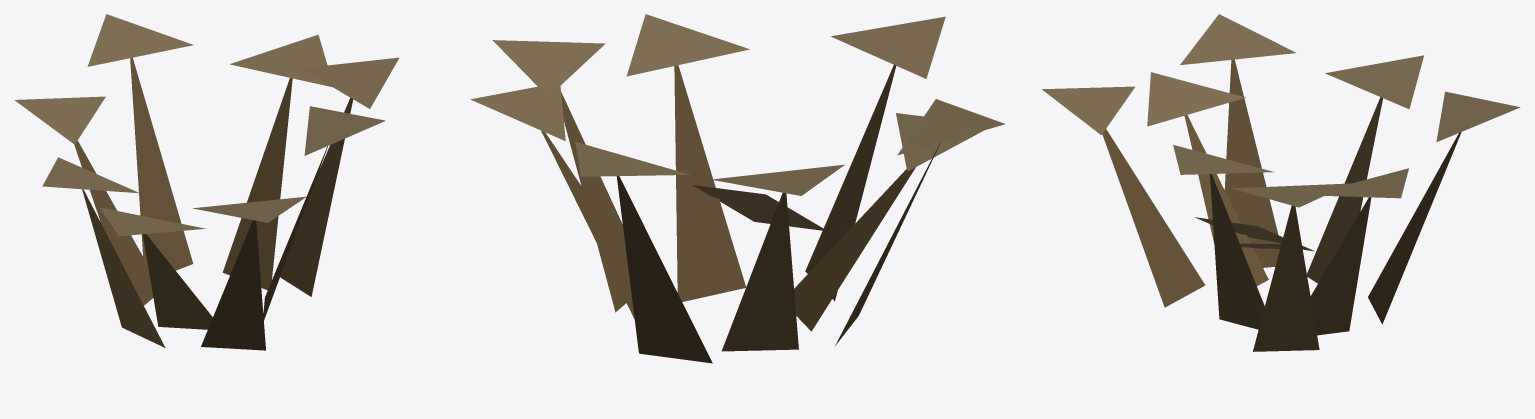
The model's file is plant_brambles_leafless_b.obj.
The picture shows the model from 3 angles, left to right: view 1: azimuth 30°, elevation 25°; view 2: azimuth 150°, elevation 25°; view 3: azimuth 270°, elevation 25°; orthographic projection. The views are drawn at different scales.
Parts seen in each view (by area): view 1: plant_brambles_leafless_b_8, plant_brambles_leafless_b_16, plant_brambles_leafless_b_6, plant_brambles_leafless_b_4, plant_brambles_leafless_b_14, plant_brambles_leafless_b_12, plant_brambles_leafless_b_9, plant_brambles_leafless_b_5, plant_brambles_leafless_b_7, plant_brambles_leafless_b_10, plant_brambles_leafless_b_11, plant_brambles_leafless_b_19 (+4 smaller); view 2: plant_brambles_leafless_b_18, plant_brambles_leafless_b_8, plant_brambles_leafless_b_10, plant_brambles_leafless_b_14, plant_brambles_leafless_b_19, plant_brambles_leafless_b_16, plant_brambles_leafless_b_17, plant_brambles_leafless_b_5, plant_brambles_leafless_b_6, plant_brambles_leafless_b_7, plant_brambles_leafless_b_13, plant_brambles_leafless_b_4 (+5 smaller); view 3: plant_brambles_leafless_b_4, plant_brambles_leafless_b_16, plant_brambles_leafless_b_12, plant_brambles_leafless_b_18, plant_brambles_leafless_b_6, plant_brambles_leafless_b_10, plant_brambles_leafless_b_13, plant_brambles_leafless_b_8, plant_brambles_leafless_b_15, plant_brambles_leafless_b_11, plant_brambles_leafless_b_17, plant_brambles_leafless_b_9 (+5 smaller).
Boxes of the visible parts, x1=… form: plant_brambles_leafless_b_8: x1=130, y1=57, x2=193, y2=270; plant_brambles_leafless_b_16: x1=201, y1=220, x2=265, y2=350; plant_brambles_leafless_b_6: x1=222, y1=78, x2=292, y2=290; plant_brambles_leafless_b_4: x1=280, y1=98, x2=353, y2=296; plant_brambles_leafless_b_14: x1=142, y1=234, x2=212, y2=329; plant_brambles_leafless_b_12: x1=82, y1=189, x2=165, y2=347; plant_brambles_leafless_b_9: x1=87, y1=14, x2=193, y2=66; plant_brambles_leafless_b_5: x1=301, y1=57, x2=399, y2=108; plant_brambles_leafless_b_7: x1=230, y1=34, x2=332, y2=87; plant_brambles_leafless_b_10: x1=74, y1=140, x2=153, y2=305; plant_brambles_leafless_b_11: x1=14, y1=96, x2=105, y2=144; plant_brambles_leafless_b_19: x1=304, y1=106, x2=385, y2=155; plant_brambles_leafless_b_18: x1=674, y1=65, x2=746, y2=301; plant_brambles_leafless_b_8: x1=616, y1=176, x2=712, y2=363; plant_brambles_leafless_b_10: x1=722, y1=193, x2=798, y2=351; plant_brambles_leafless_b_14: x1=794, y1=167, x2=915, y2=331; plant_brambles_leafless_b_19: x1=626, y1=14, x2=749, y2=76; plant_brambles_leafless_b_16: x1=805, y1=65, x2=896, y2=301; plant_brambles_leafless_b_17: x1=831, y1=16, x2=945, y2=78; plant_brambles_leafless_b_5: x1=492, y1=40, x2=605, y2=96; plant_brambles_leafless_b_6: x1=541, y1=130, x2=634, y2=318; plant_brambles_leafless_b_7: x1=470, y1=86, x2=565, y2=140; plant_brambles_leafless_b_13: x1=897, y1=99, x2=1005, y2=155; plant_brambles_leafless_b_4: x1=561, y1=92, x2=626, y2=312; plant_brambles_leafless_b_4: x1=1253, y1=205, x2=1319, y2=351; plant_brambles_leafless_b_16: x1=1102, y1=129, x2=1205, y2=307; plant_brambles_leafless_b_12: x1=1224, y1=59, x2=1280, y2=267; plant_brambles_leafless_b_18: x1=1210, y1=174, x2=1264, y2=329; plant_brambles_leafless_b_6: x1=1310, y1=197, x2=1371, y2=335; plant_brambles_leafless_b_10: x1=1307, y1=97, x2=1382, y2=283; plant_brambles_leafless_b_13: x1=1180, y1=14, x2=1295, y2=65; plant_brambles_leafless_b_8: x1=1368, y1=132, x2=1461, y2=324; plant_brambles_leafless_b_15: x1=1147, y1=72, x2=1245, y2=126; plant_brambles_leafless_b_11: x1=1325, y1=55, x2=1423, y2=109; plant_brambles_leafless_b_17: x1=1042, y1=86, x2=1134, y2=135; plant_brambles_leafless_b_9: x1=1436, y1=91, x2=1520, y2=142.
Size of the model in its own units: 0.6956 by 0.3428 by 0.7266.
